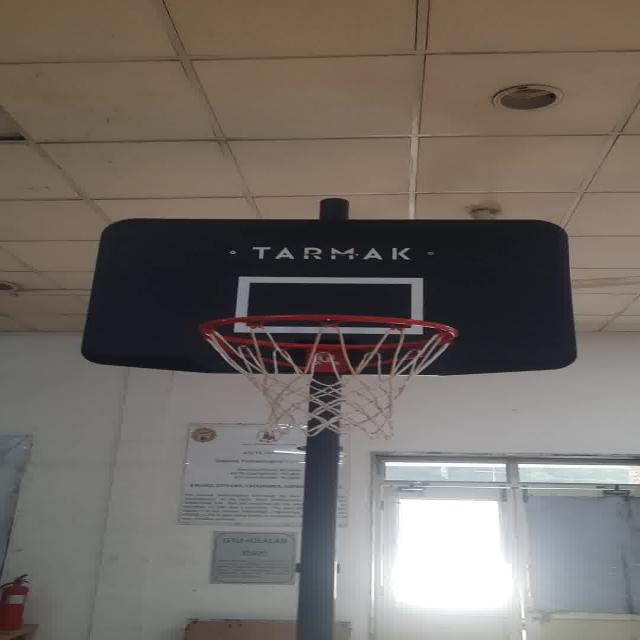objects: (188, 312, 473, 440), (237, 276, 427, 331)
